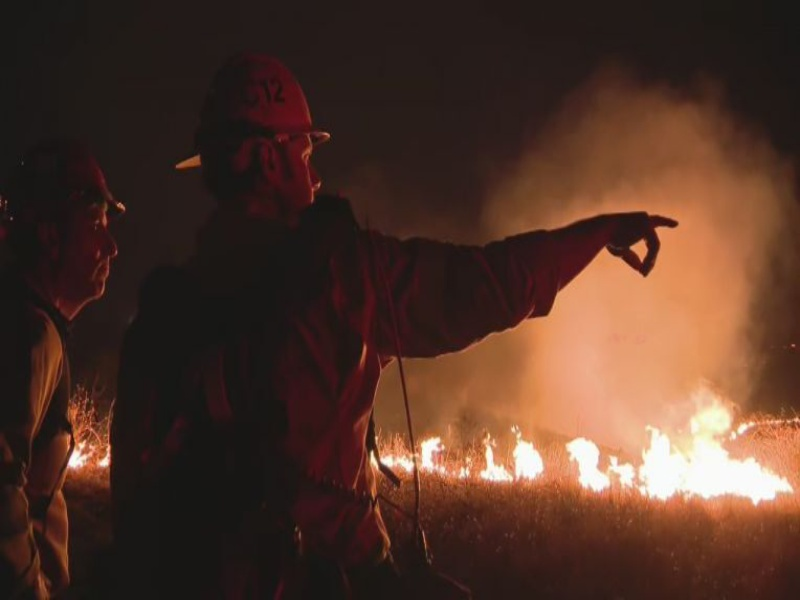fire: (365, 374, 799, 510)
